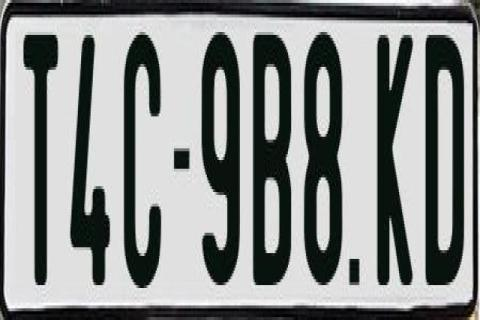0: (69, 35, 111, 285), (302, 29, 343, 285), (201, 29, 240, 282)
B: (251, 35, 291, 294)
C: (123, 24, 163, 282)
D: (422, 29, 462, 279)
K: (378, 32, 417, 291)
T: (22, 27, 60, 286)
